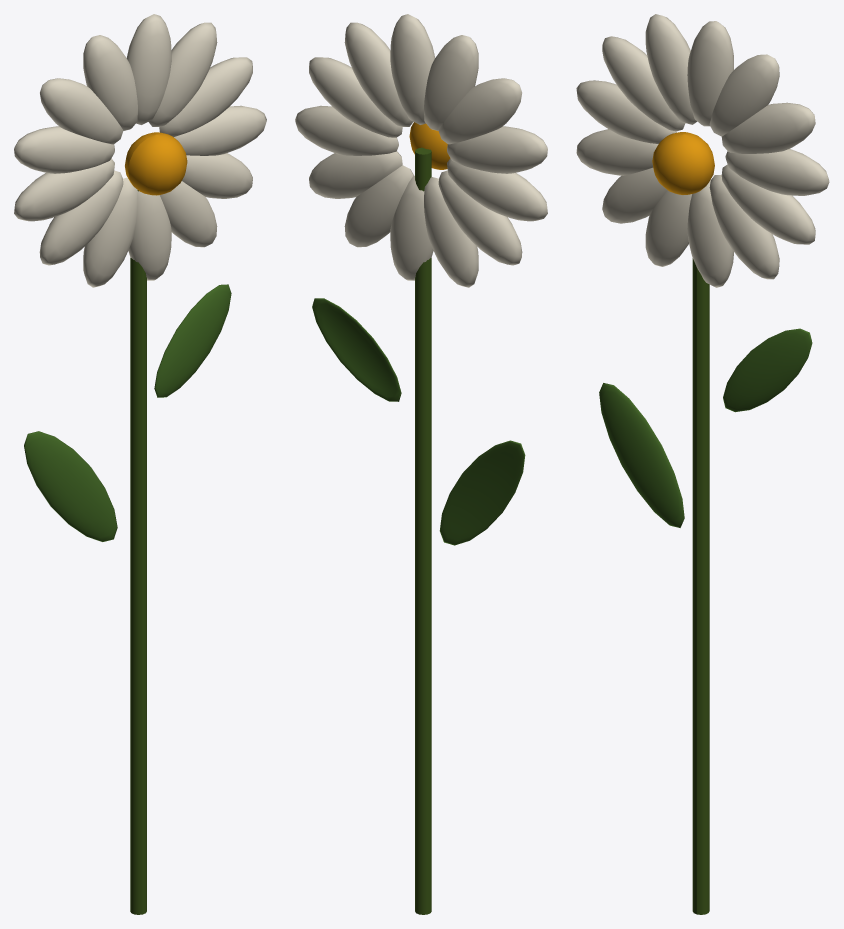
File: F02-palette-v1.glb
The picture shows the model from 3 angles, left to right: view 1: azimuth 30°, elevation 25°; view 2: azimuth 150°, elevation 25°; view 3: azimuth 330°, elevation 25°; orthographic projection.
Parts seen in each view (by area): view 1: F02_palette; view 2: F02_palette; view 3: F02_palette.
Part boxes in pixels (x1=…): F02_palette: x1=14, y1=14, x2=266, y2=914; F02_palette: x1=295, y1=14, x2=547, y2=914; F02_palette: x1=576, y1=14, x2=829, y2=914.
Size of the model in its own units: 0.2089 by 0.7052 by 0.0597.
